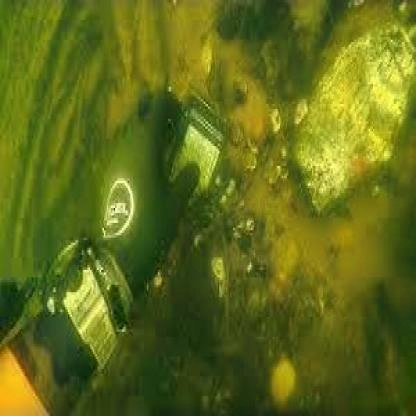misc: (40, 233, 122, 376)
